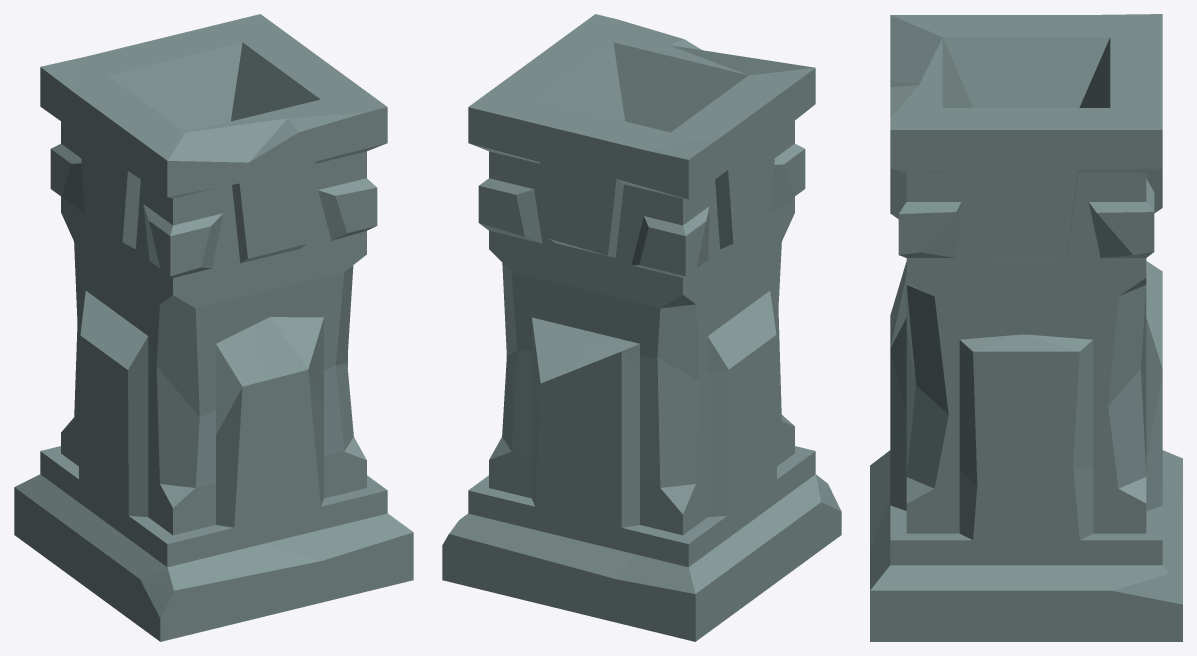
The model's file is TorchProp.fbx.
3 renders of one model, left to right at view 1: azimuth 30°, elevation 25°; view 2: azimuth 150°, elevation 25°; view 3: azimuth 270°, elevation 25°, orthographic. The views are drawn at different scales.
Parts seen in each view (by area): view 1: TorchProp.002; view 2: TorchProp.002; view 3: TorchProp.002.
Boxes of the visible parts, left/top/right/bottom form: TorchProp.002: left=14, top=14, right=413, bottom=641; TorchProp.002: left=442, top=14, right=841, bottom=641; TorchProp.002: left=870, top=14, right=1182, bottom=641.
Size of the model in its own units: 235 by 417 by 235.
